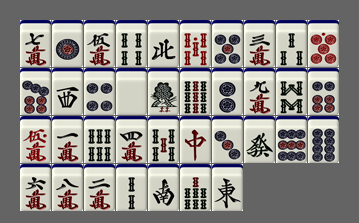0m: (20, 116, 51, 163)
0p: (308, 20, 339, 67)
0s: (180, 20, 211, 67)
1m: (52, 116, 83, 163)
1p: (52, 20, 83, 67)
1s: (148, 68, 179, 115)
1z: (212, 164, 243, 211)
2m: (84, 164, 115, 211)
2p: (212, 68, 243, 115)
2s: (116, 164, 147, 211)
2z: (148, 164, 179, 211)
3m: (244, 20, 275, 67)
3p: (212, 116, 243, 163)
3s: (276, 20, 307, 67)
3z: (52, 68, 83, 115)
4m: (116, 116, 147, 163)
4p: (84, 68, 115, 115)
4s: (116, 20, 147, 67)
4z: (148, 20, 179, 67)
5m: (84, 20, 115, 67)
5p: (212, 20, 243, 67)
5s: (148, 116, 179, 163)
5z: (116, 68, 147, 115)
6m: (20, 164, 51, 211)
6p: (308, 68, 339, 115)
6s: (84, 116, 115, 163)
6z: (244, 116, 275, 163)
7m: (20, 20, 51, 67)
7p: (20, 68, 51, 115)
7s: (180, 164, 211, 211)
7z: (180, 116, 211, 163)
8m: (52, 164, 83, 211)
8p: (308, 116, 339, 163)
8s: (276, 68, 307, 115)
9m: (244, 68, 275, 115)
9p: (276, 116, 307, 163)
9s: (180, 68, 211, 115)
